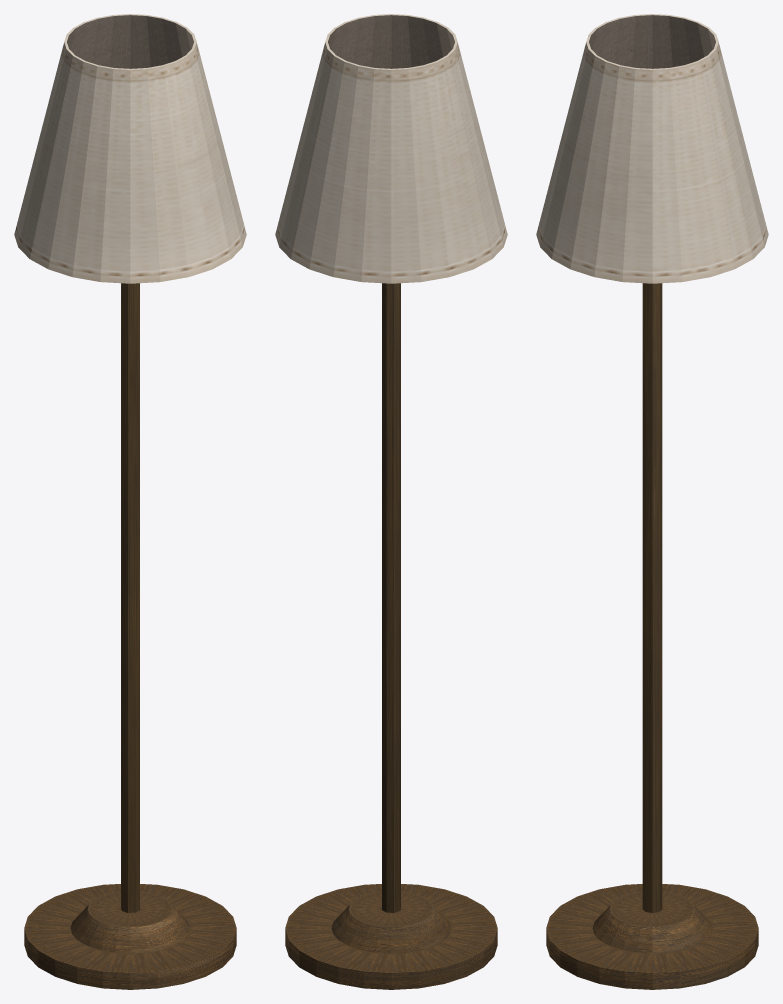
Rendered from lamp.glb.
3 views of the same model, side by side, from view 1: azimuth 30°, elevation 25°; view 2: azimuth 150°, elevation 25°; view 3: azimuth 270°, elevation 25° (orthographic).
Parts seen in each view (by area): view 1: core_lamp; view 2: core_lamp; view 3: core_lamp.
Boxes of the visible parts, x1,y1,x2,y2 form: core_lamp: (14, 14, 246, 989); core_lamp: (275, 14, 507, 989); core_lamp: (536, 14, 768, 989).
Size of the model in its own units: 0.35 by 1.5 by 0.35.
Materials: 1 (1 with a texture image).
